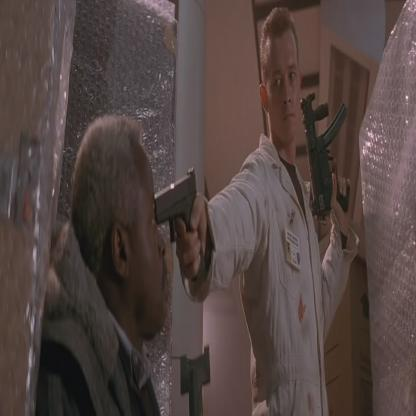gun: (299, 81, 354, 223), (149, 161, 206, 252)
